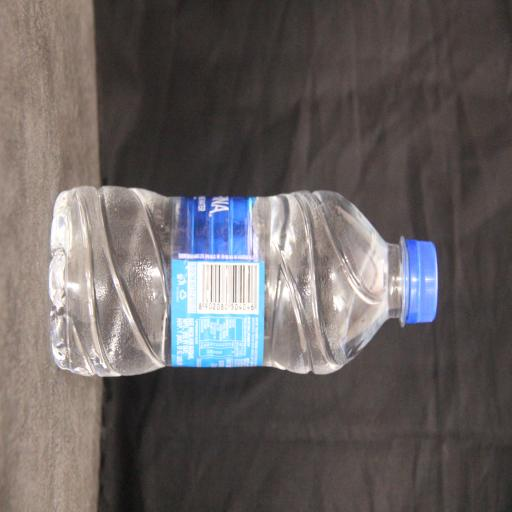Aquafina: (127, 111, 249, 512)
